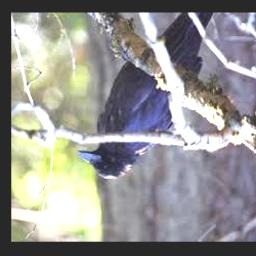Crow: (79, 13, 214, 180)
